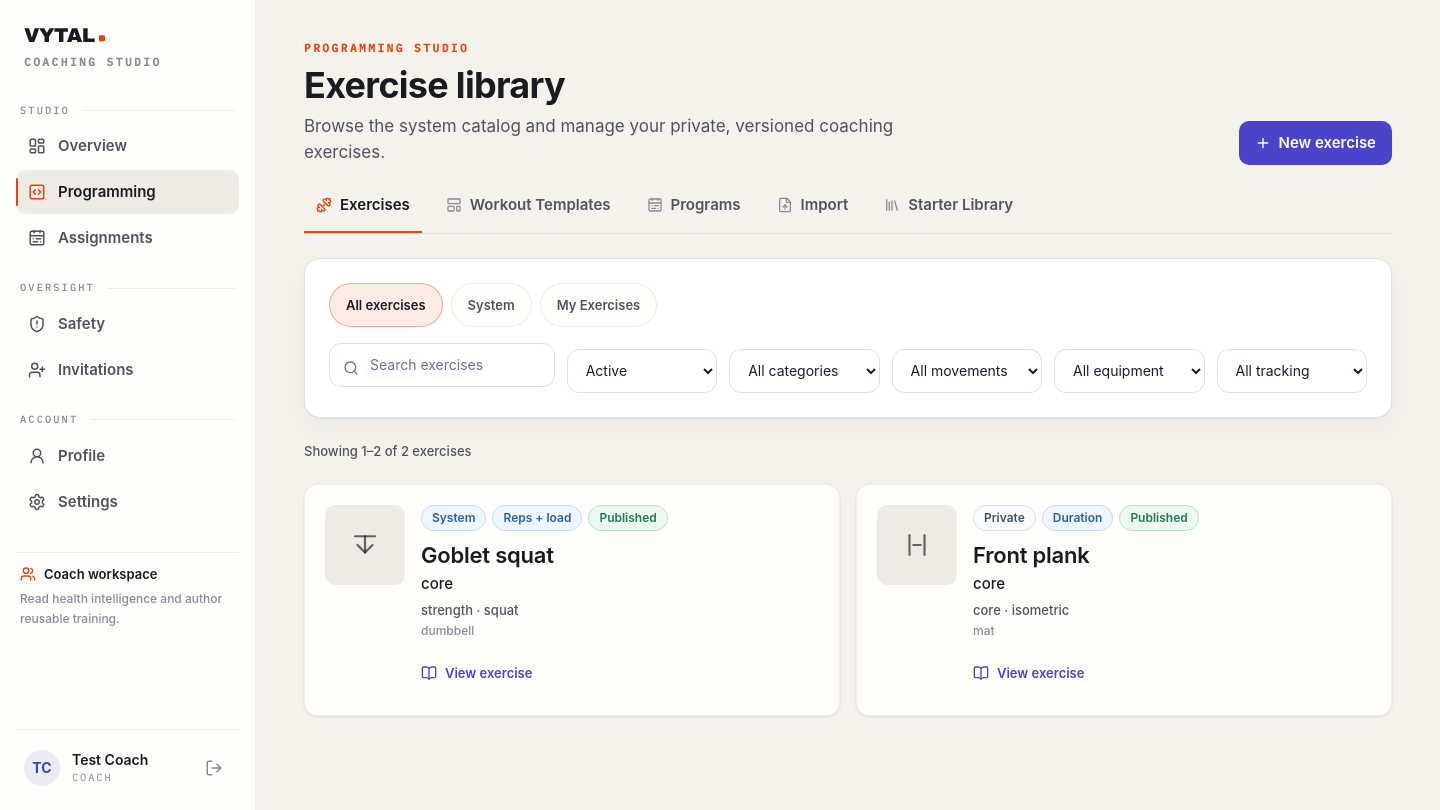
Scenario: Programming exercise workspace › filters system and private exercises and exposes metadata filters
Expected: the heading "Goblet squat" is shown, [421,542,554,568]
Expected: the heading "Front plank" is shown, [973,542,1090,568]
Click the button "My Exercises" at (598, 305), box [540,283,657,327]
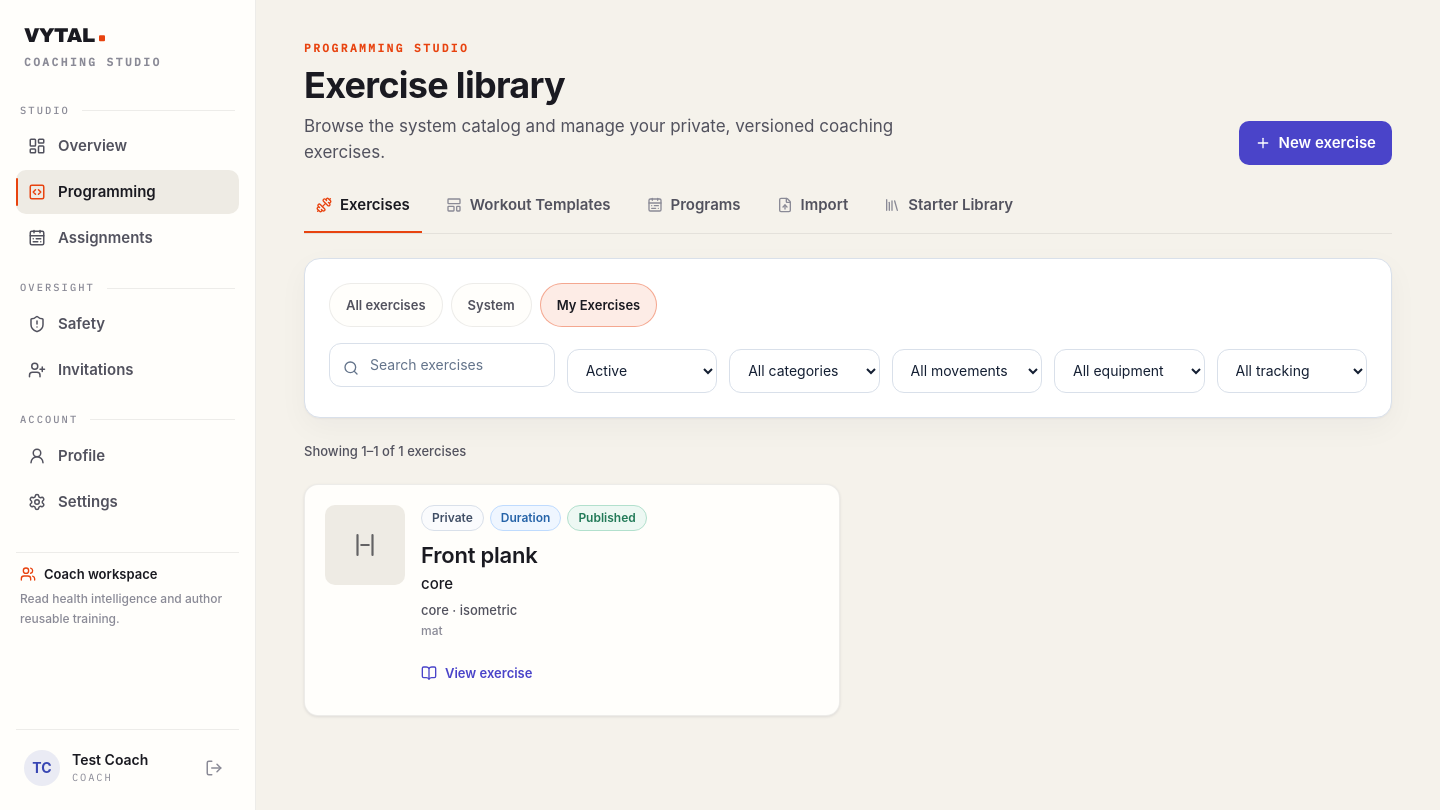
Expected: the heading "Front plank" is shown, [421,542,538,568]
Now the heading "Goblet squat" is gone
Select "Reps + load" in the dropdown named "Tracking mode" at (1292, 371), box [1216,349,1367,393]
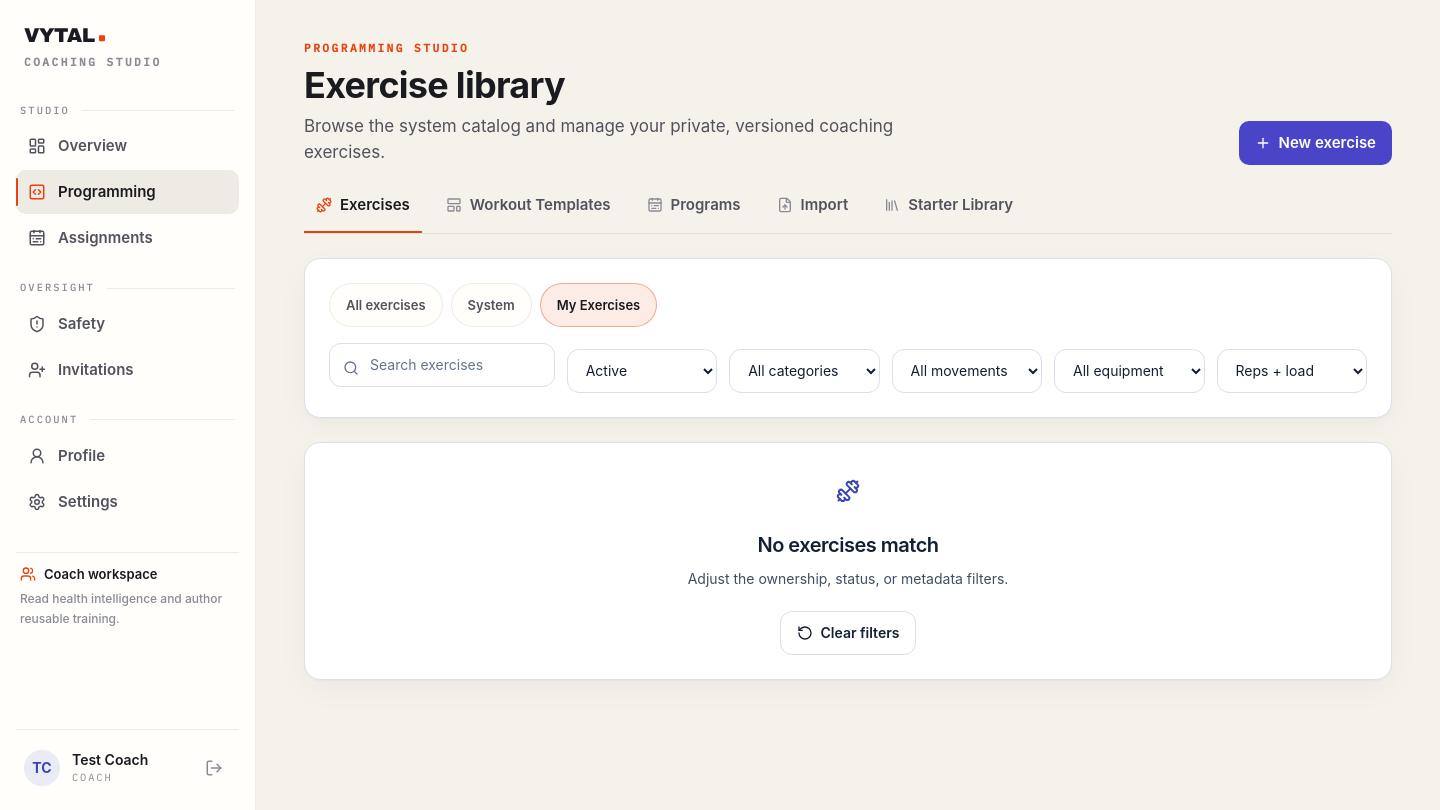
Now the heading "No exercises match" is shown, box [758,533,939,557]
Click the button "Clear filters" at (848, 633), box [780,611,916,655]
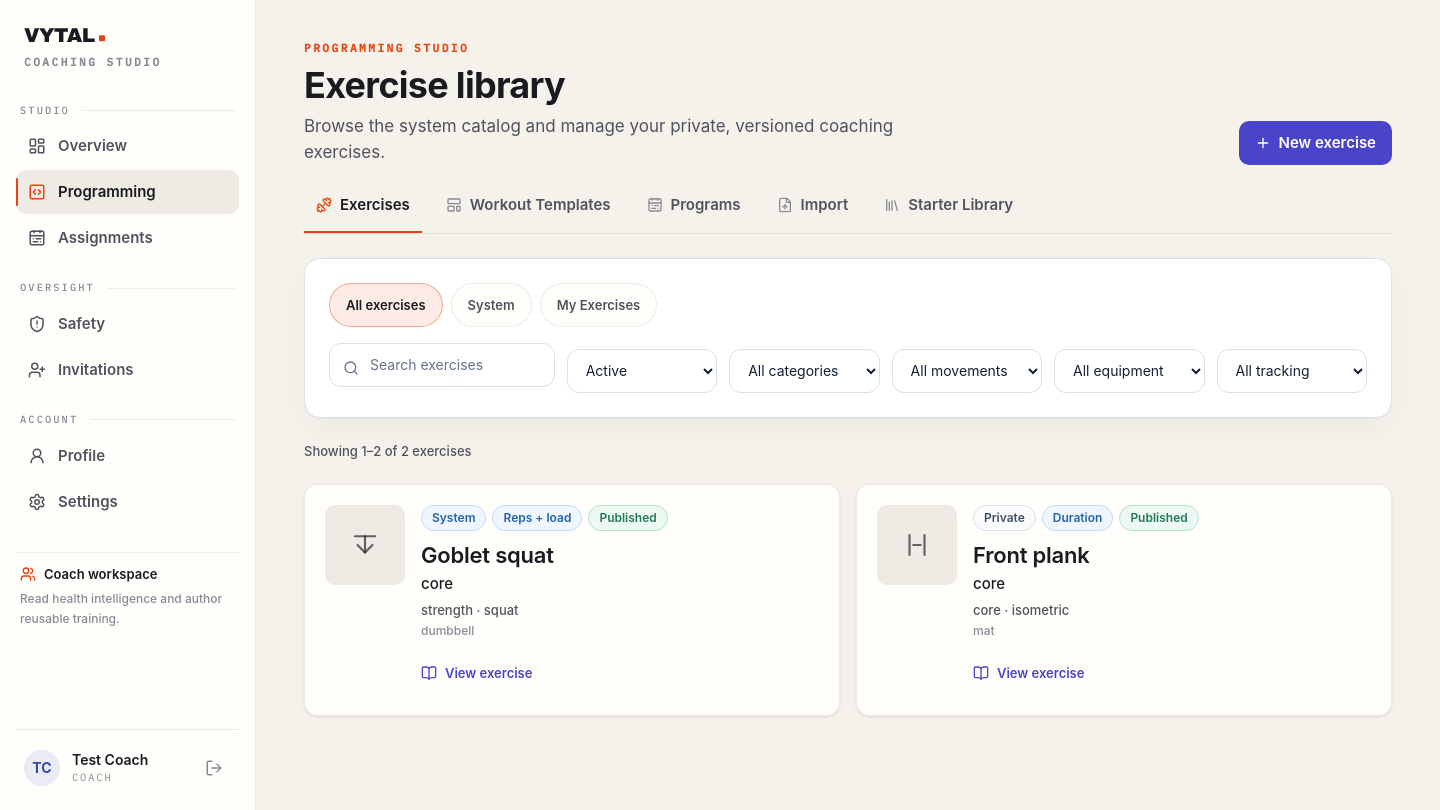
Type "goblet" into the search field labelled "Search exercises" at (442, 365), box [329,343,555,387]
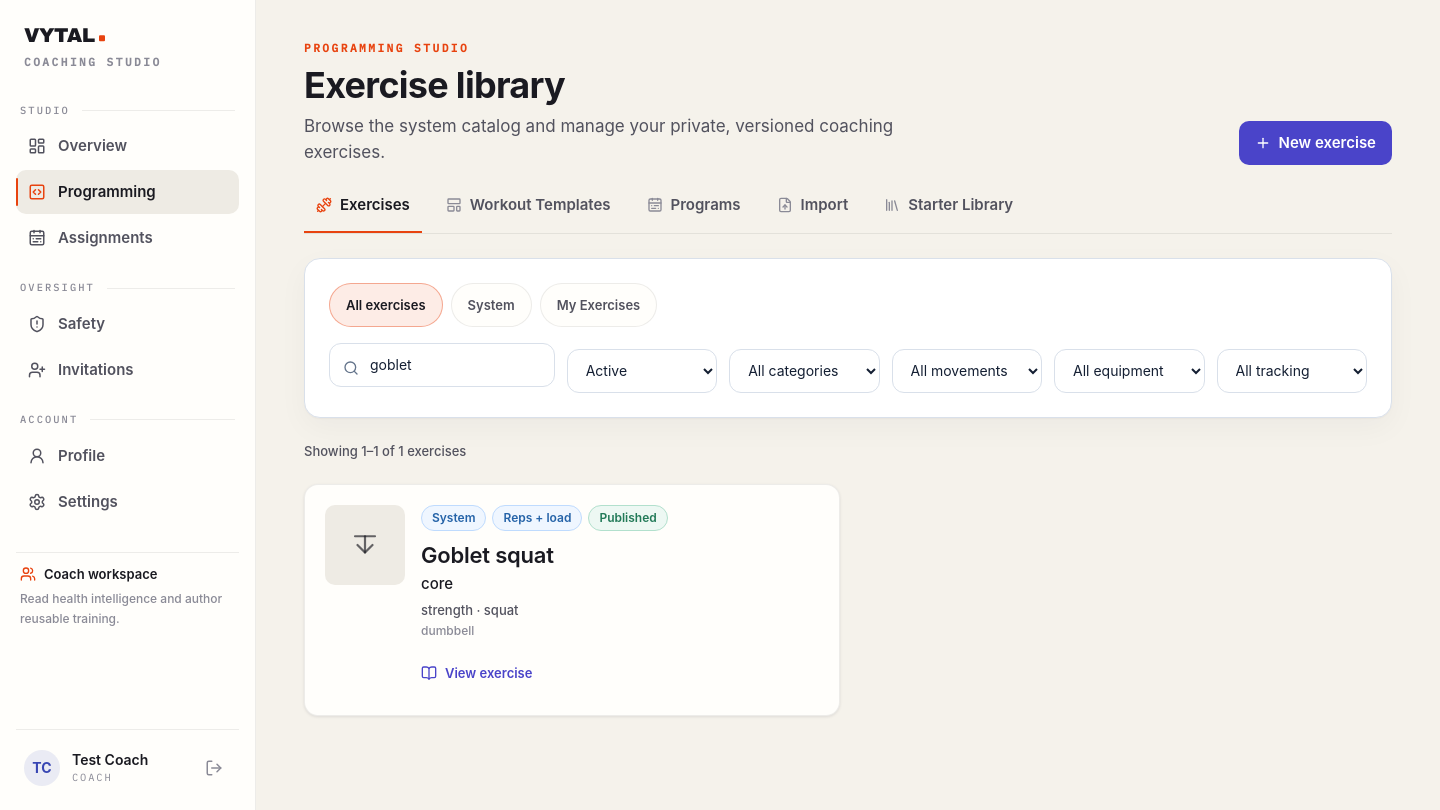
Now the heading "Goblet squat" is shown, box [421,542,554,568]
Now the heading "Front plank" is gone
